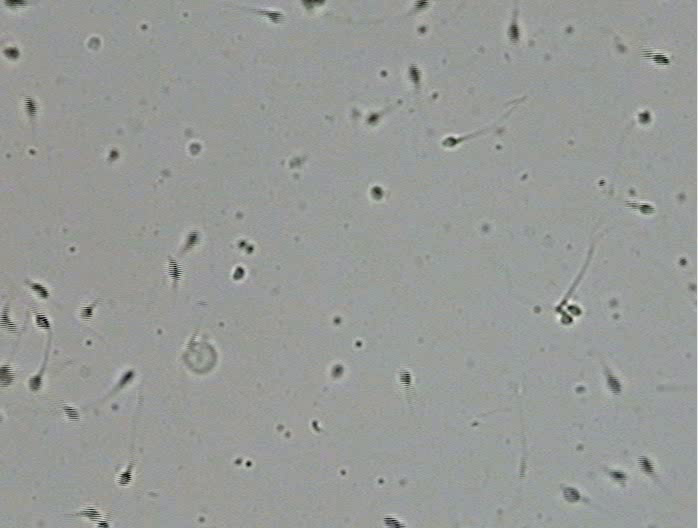Impurity: (184, 342, 218, 374), (87, 37, 100, 49)
S: (1, 306, 17, 334), (30, 282, 50, 300), (1, 364, 16, 388), (637, 455, 655, 475), (606, 373, 622, 394), (168, 258, 182, 281), (24, 96, 38, 118), (34, 313, 51, 330), (62, 405, 80, 421), (81, 507, 101, 521), (507, 22, 520, 42), (119, 370, 134, 387), (563, 487, 580, 502), (266, 10, 284, 24), (383, 516, 404, 528), (186, 230, 199, 249), (651, 52, 670, 65), (3, 1, 27, 11), (28, 374, 42, 391), (408, 65, 421, 83), (3, 47, 19, 60), (399, 369, 411, 386), (79, 307, 93, 321), (302, 1, 326, 9), (609, 470, 626, 481), (118, 472, 132, 485), (370, 186, 383, 200), (638, 110, 651, 124), (639, 203, 655, 214), (233, 266, 245, 280), (443, 136, 457, 147), (366, 113, 380, 124), (413, 1, 428, 11), (189, 143, 201, 155), (331, 365, 343, 377), (560, 313, 573, 324), (568, 305, 581, 315), (109, 149, 120, 160), (97, 519, 109, 528)
